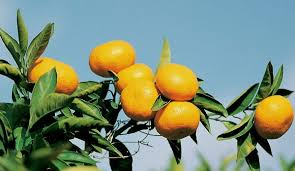orange: (25, 53, 78, 100), (251, 88, 294, 140), (151, 97, 204, 137), (153, 60, 201, 99), (117, 81, 165, 120), (84, 39, 136, 74), (114, 64, 154, 90)
